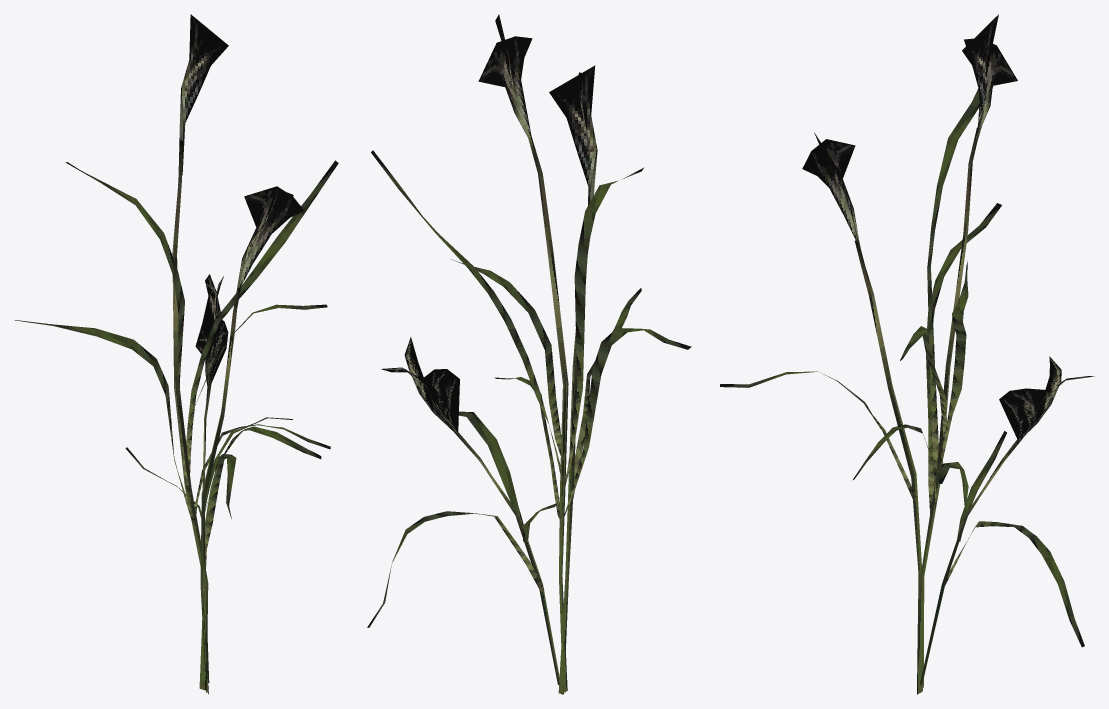
The model's file is natural-reeds-quiet.glb.
The picture shows the model from 3 angles, left to right: view 1: azimuth 30°, elevation 25°; view 2: azimuth 150°, elevation 25°; view 3: azimuth 270°, elevation 25°; orthographic projection. The views are drawn at different scales.
Visible parts, largest first — view 1: natural-reeds-quiet runtime mesh; view 2: natural-reeds-quiet runtime mesh; view 3: natural-reeds-quiet runtime mesh.
Boxes of the visible parts, bbox=[...] form: natural-reeds-quiet runtime mesh: bbox=[15, 14, 338, 694]; natural-reeds-quiet runtime mesh: bbox=[367, 14, 691, 694]; natural-reeds-quiet runtime mesh: bbox=[720, 14, 1094, 694].
Bounding box in the file's own units: 0.499 × 1 × 0.4915.
Materials: 1 (1 with a texture image).
